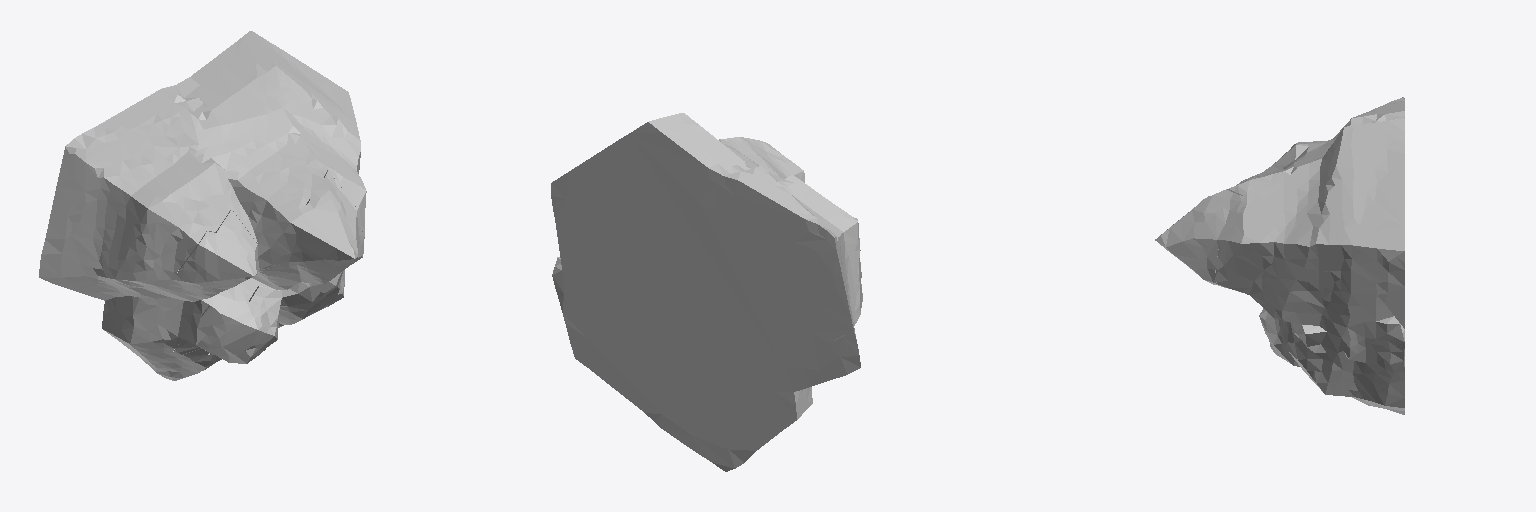
File: tinker_14.obj
The picture shows the model from 3 angles: view 1: azimuth 30°, elevation 25°; view 2: azimuth 150°, elevation 25°; view 3: azimuth 270°, elevation 25°; orthographic projection.
Visible parts, largest first — view 1: obj_0; view 2: obj_0; view 3: obj_0.
Boxes of the visible parts, x1=… form: obj_0: x1=39, y1=31, x2=366, y2=380; obj_0: x1=551, y1=113, x2=862, y2=471; obj_0: x1=1155, y1=97, x2=1404, y2=414.
Bounding box in the file's own units: 85.5 × 87.48 × 59.79.